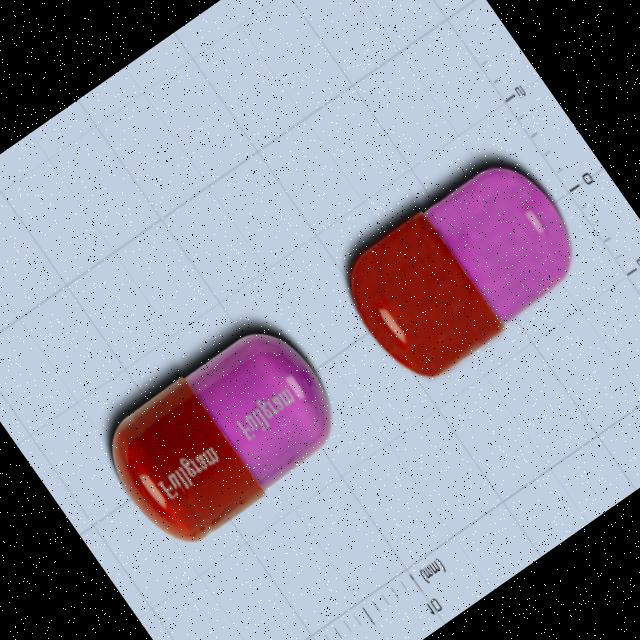Fullgram Cap: (326, 142, 600, 396), (89, 310, 358, 560)
